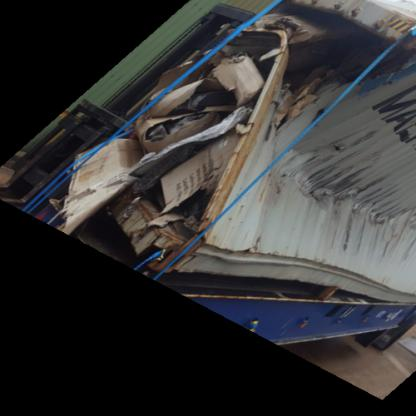Damage: (163, 7, 415, 315)
